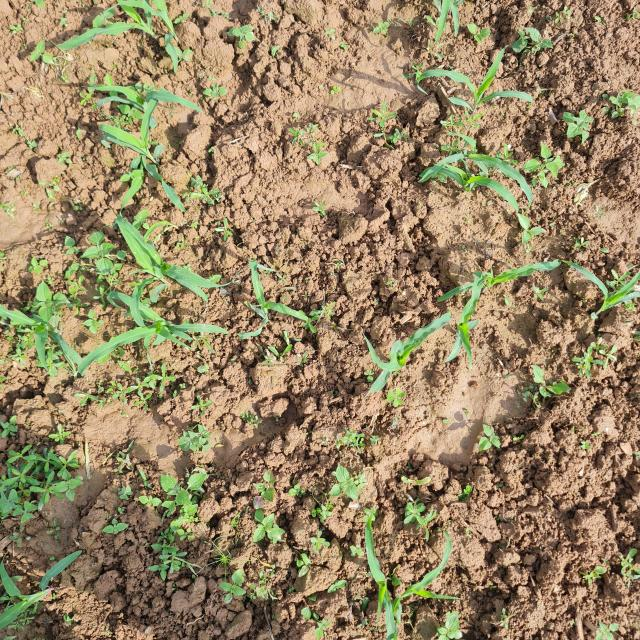maize: (84, 82, 190, 214), (55, 0, 212, 76), (419, 275, 533, 375), (108, 237, 193, 366), (356, 523, 450, 633), (4, 284, 85, 396), (413, 48, 533, 120), (0, 542, 102, 622), (425, 138, 542, 205), (571, 252, 640, 319), (241, 271, 284, 349)
weed: (118, 423, 296, 595), (0, 404, 102, 512)
